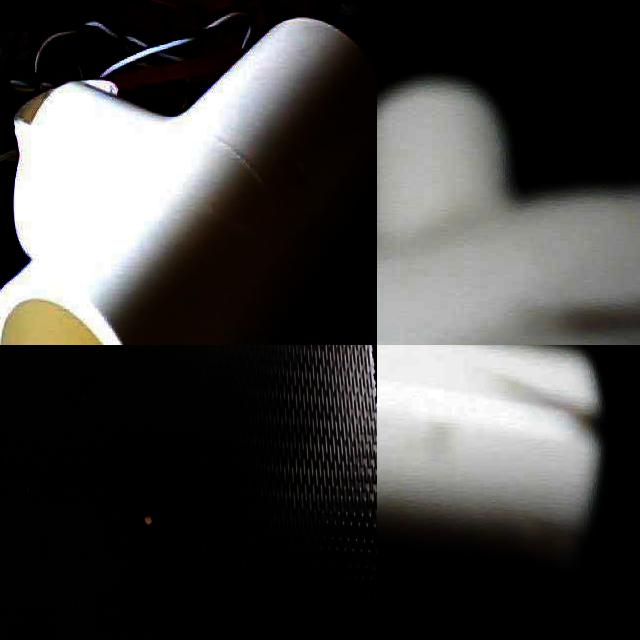Defective: (530, 302, 640, 345), (54, 372, 84, 418), (111, 502, 132, 528)
L Joint: (0, 373, 132, 616)
T Joint: (0, 17, 377, 345), (377, 76, 640, 345), (377, 345, 604, 588)
